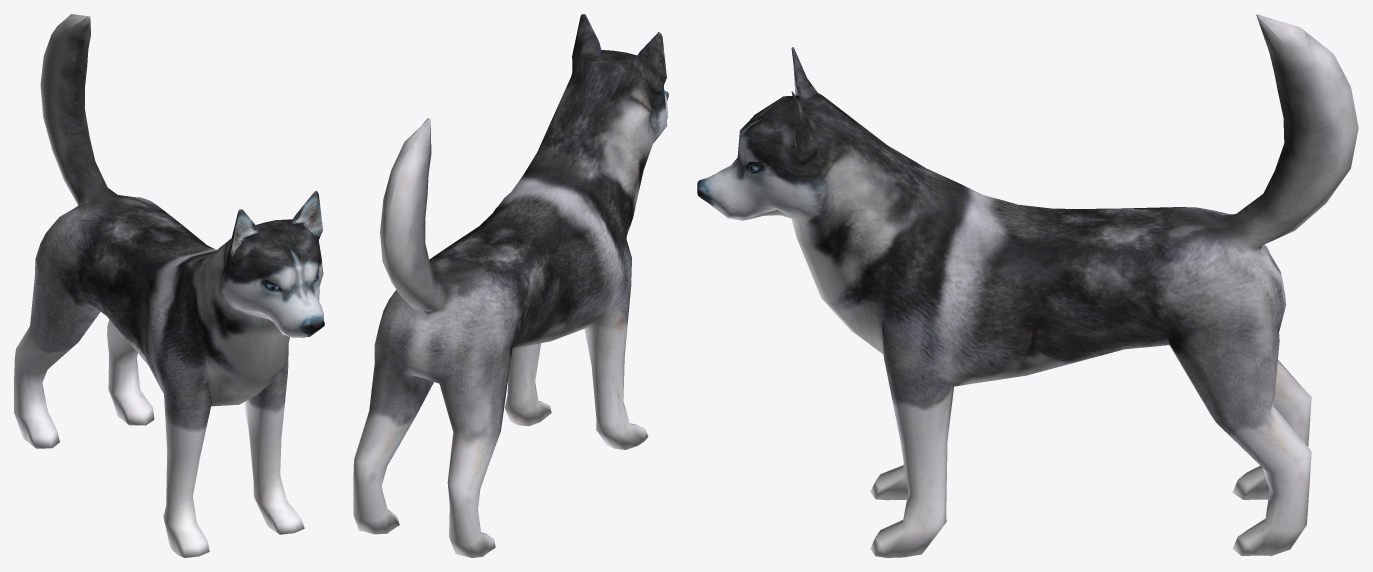
Rendered from Husky.fbx.
3 renders of one model, left to right at view 1: azimuth 30°, elevation 25°; view 2: azimuth 150°, elevation 25°; view 3: azimuth 270°, elevation 25°, orthographic. The views are drawn at different scales.
Parts seen in each view (by area): view 1: Plane; view 2: Plane; view 3: Plane.
Part boxes in pixels (box(x1,y1,x2,y2)): Plane: box(14, 14, 324, 557); Plane: box(353, 14, 668, 557); Plane: box(697, 14, 1358, 557).
Size of the model in its own units: 48.3 by 154 by 182.
